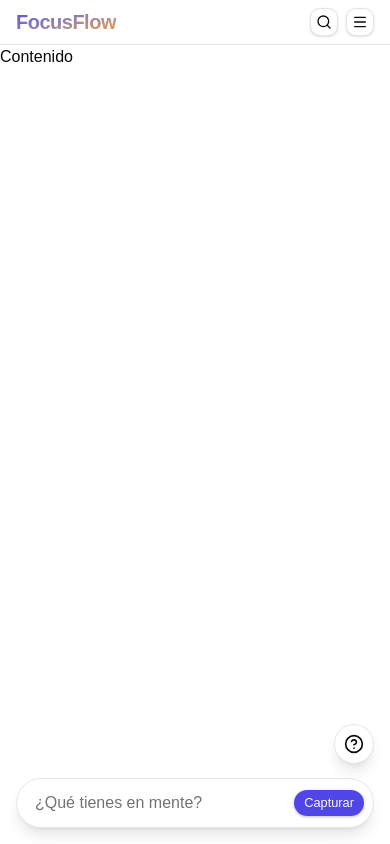
Test case: DisenoAplicacion › el botón de menú del móvil abre y cierra el cajón
This screenshot has width=390, height=844.
Click the button named "Abrir menú": (360, 22) [346,8,374,36]
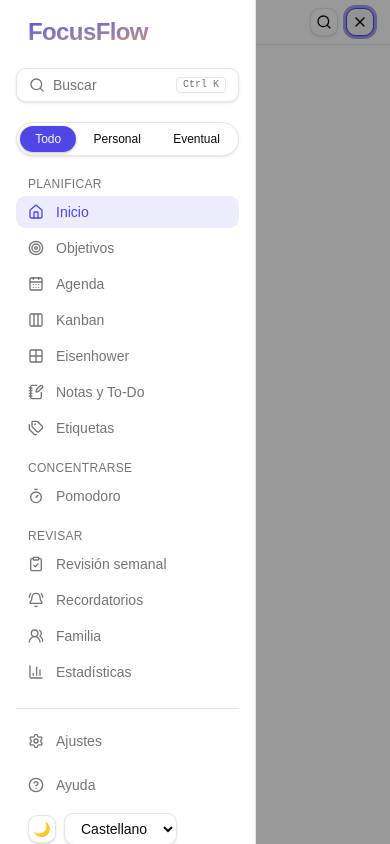
Expected: the button named "Cerrar menú" is expanded, [346,8,374,36]
// Elegir una sección cierra el cajón.
Click the link "Kanban": (66, 320) [28,312,104,328]
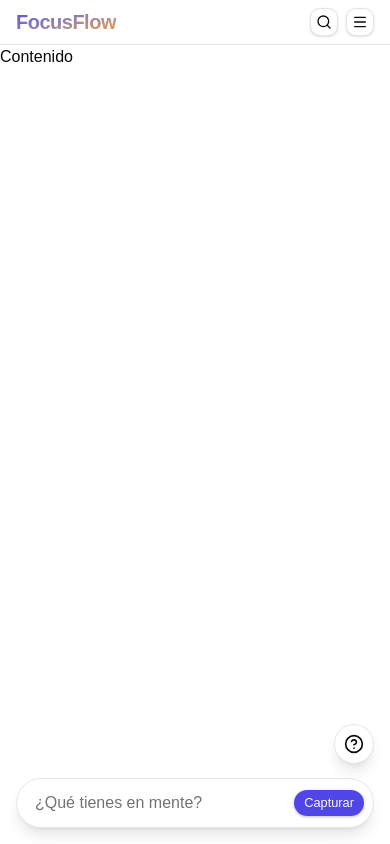
Expected: the button named "Abrir menú" is shown, [346,8,374,36]
